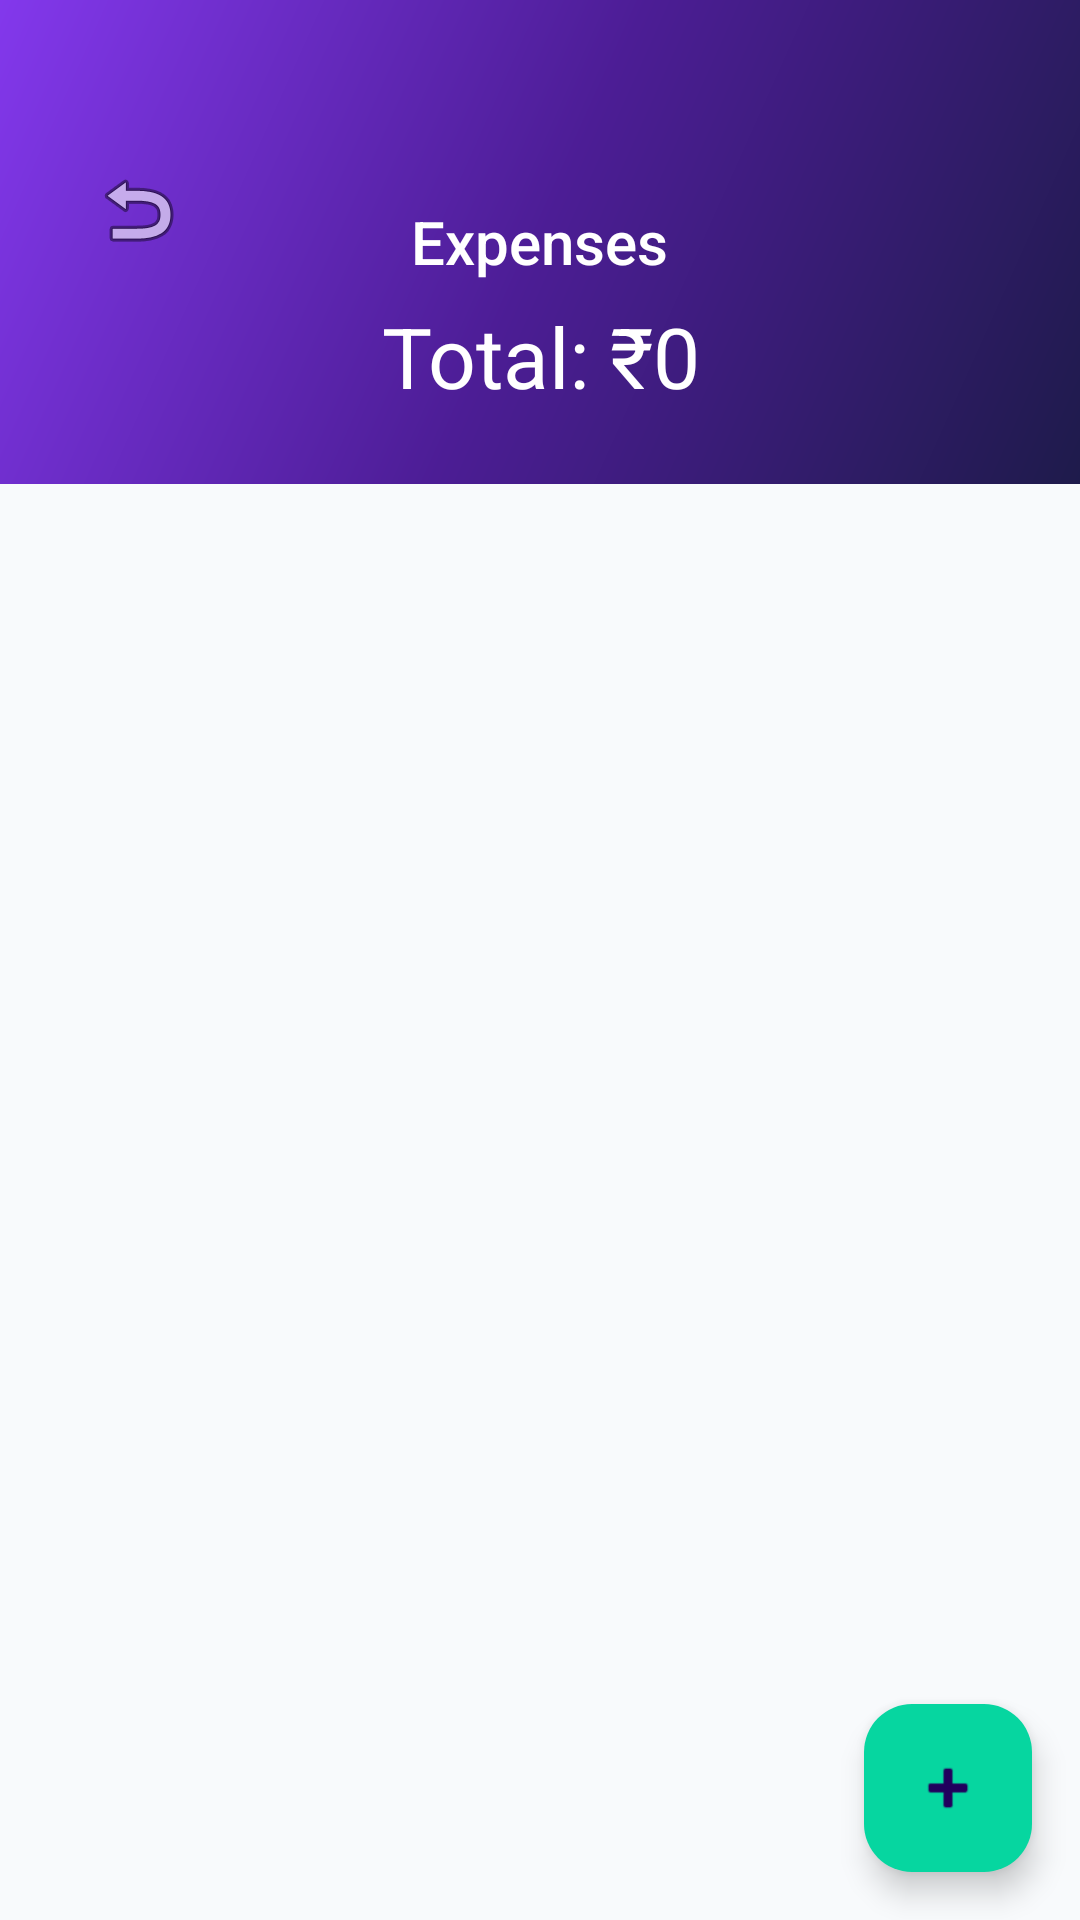

Screen size 1080×1920. Icon name, then its center in pixels as (x=x, y=y):
add: (x=948, y=1788)
Back: (x=139, y=211)
